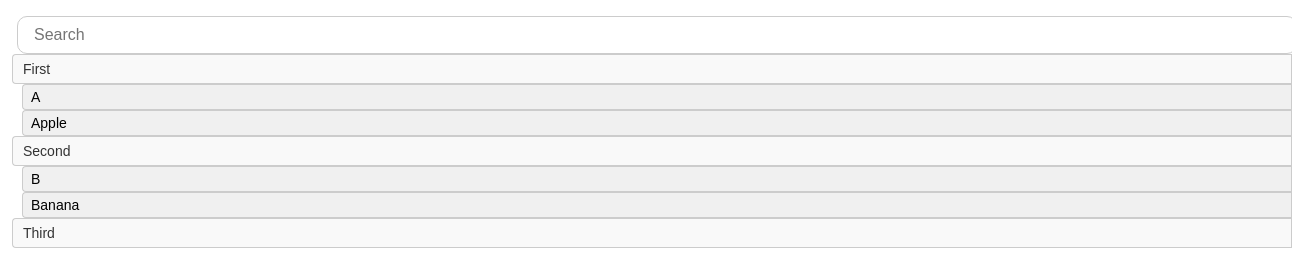
Scenario: ElementList › filters items by label when typing in search
Type "sec" into the search field with placeholder "Search". click: (654,35)
box: [17, 16, 1292, 54]
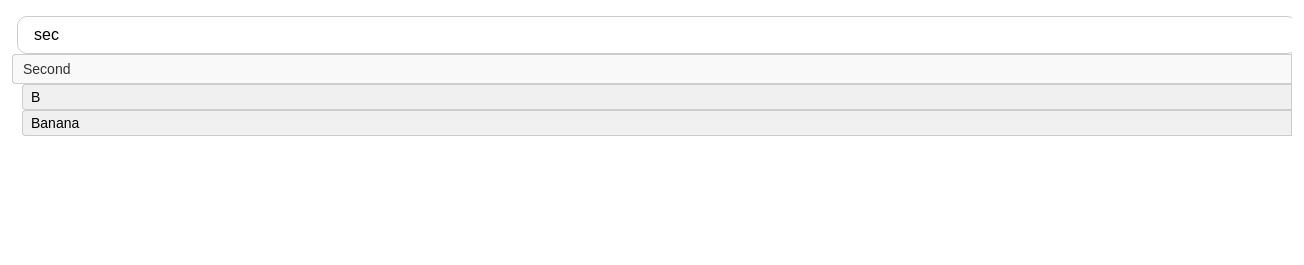
Check: the button "Second" is shown, box [12, 54, 1291, 84]
Check: the button "First" is gone
Check: the button "Third" is gone
